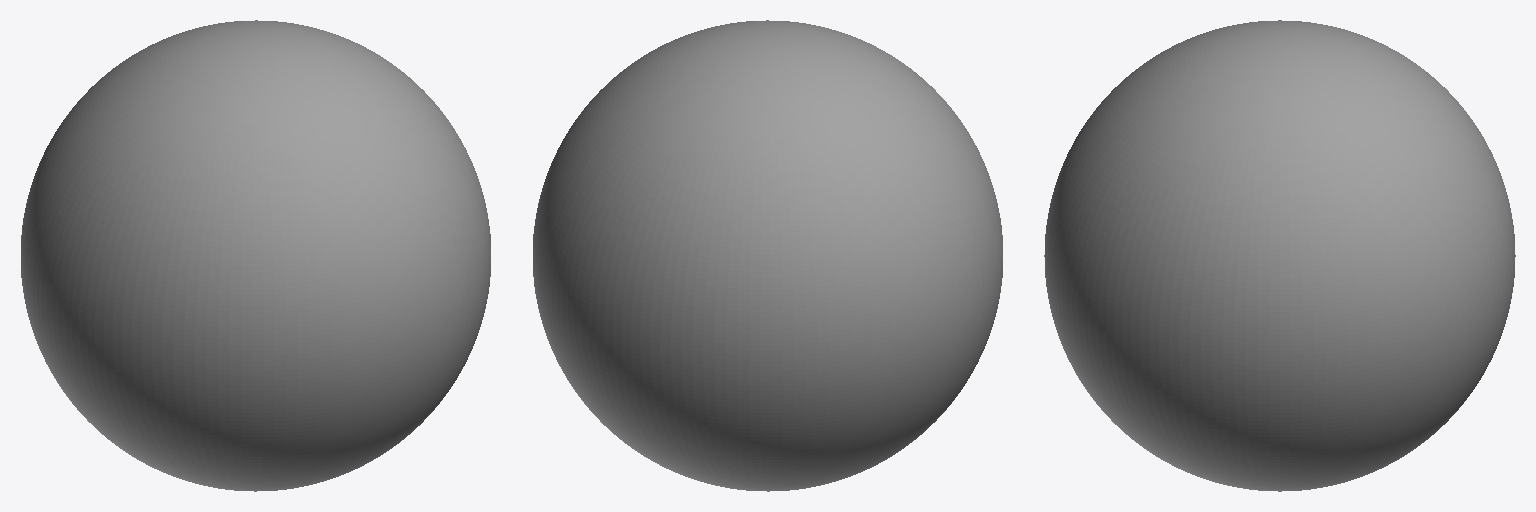
The model's file is neptuno.obj.
3 views of the same model, side by side, from view 1: azimuth 30°, elevation 25°; view 2: azimuth 150°, elevation 25°; view 3: azimuth 270°, elevation 25° (orthographic).
Visible parts, largest first — view 1: Moon_Sphere.000; view 2: Moon_Sphere.000; view 3: Moon_Sphere.000.
Part boxes in pixels (x1,y1,x2,y2): Moon_Sphere.000: (21, 20, 490, 491); Moon_Sphere.000: (533, 20, 1002, 491); Moon_Sphere.000: (1044, 20, 1515, 491).
Bounding box in the file's own units: 4.06 × 4.06 × 4.06.